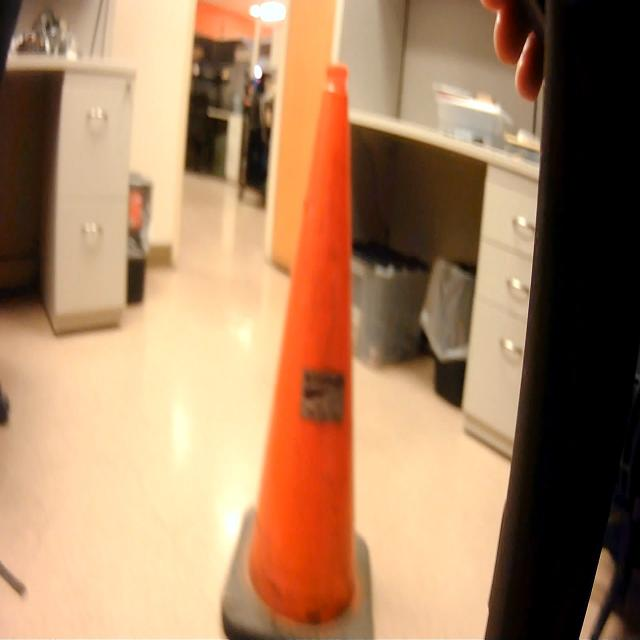traffic cone: (217, 50, 383, 640)
